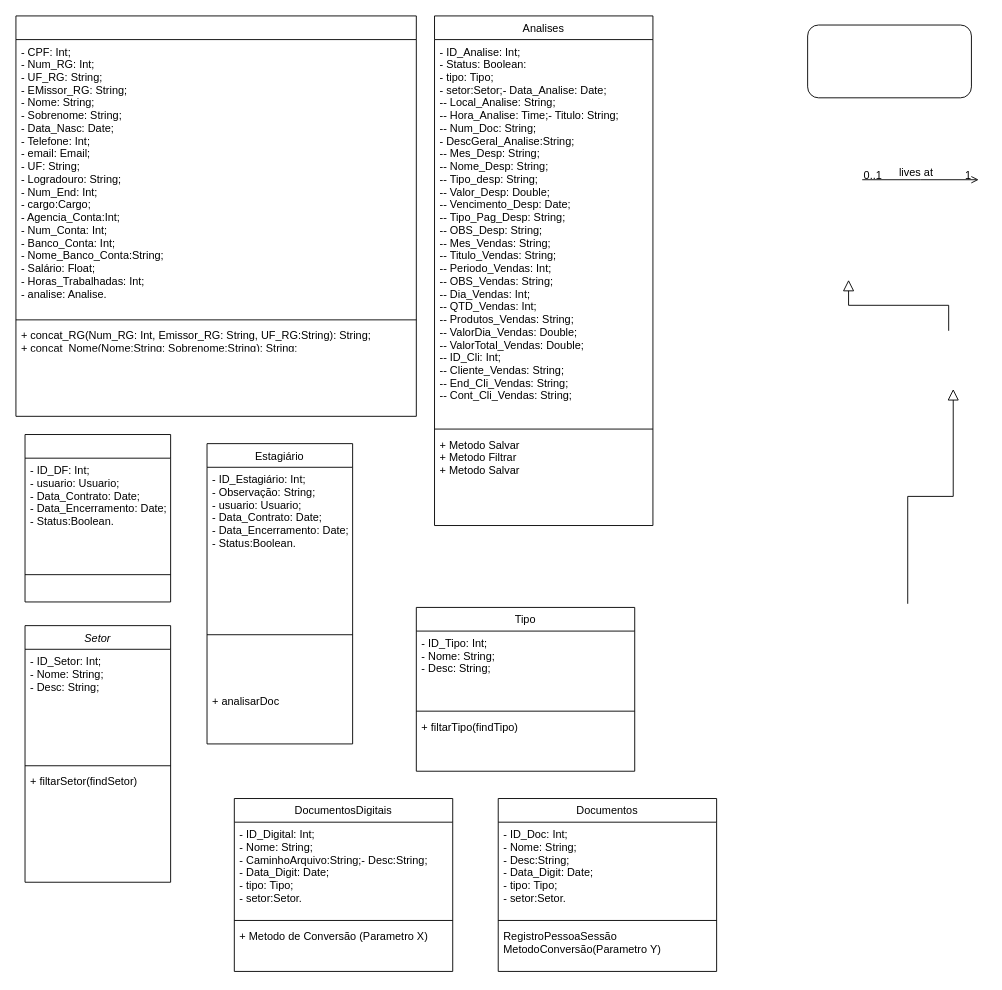
The diagram is 1002 pixels wide and 990 high, and some of its shapes have lost their labels. Each missing label, with the box of its shape:
Diagrama de Classes Vino Bebidas: (807, 24, 971, 98)
Diretor Financeiro: (24, 434, 171, 602)
Usuário: (15, 15, 416, 416)
